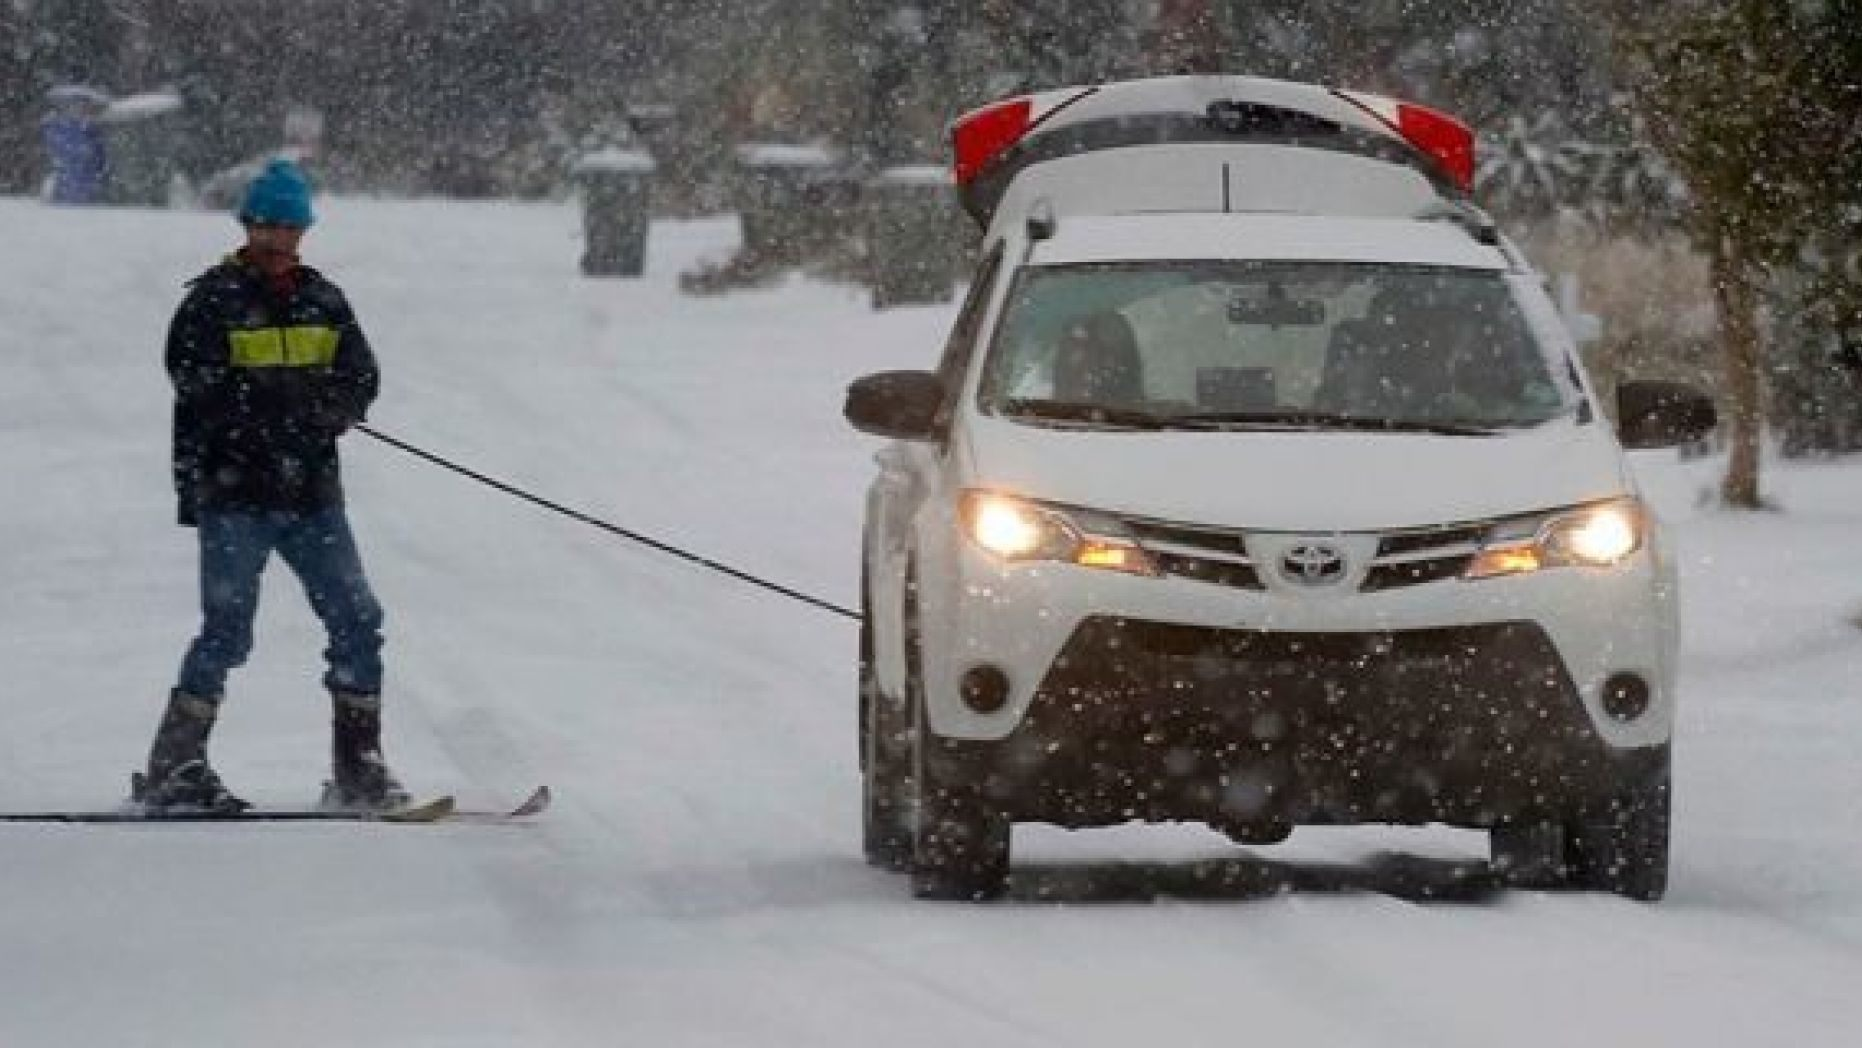car: (847, 153, 1688, 905)
person: (134, 158, 446, 818)
